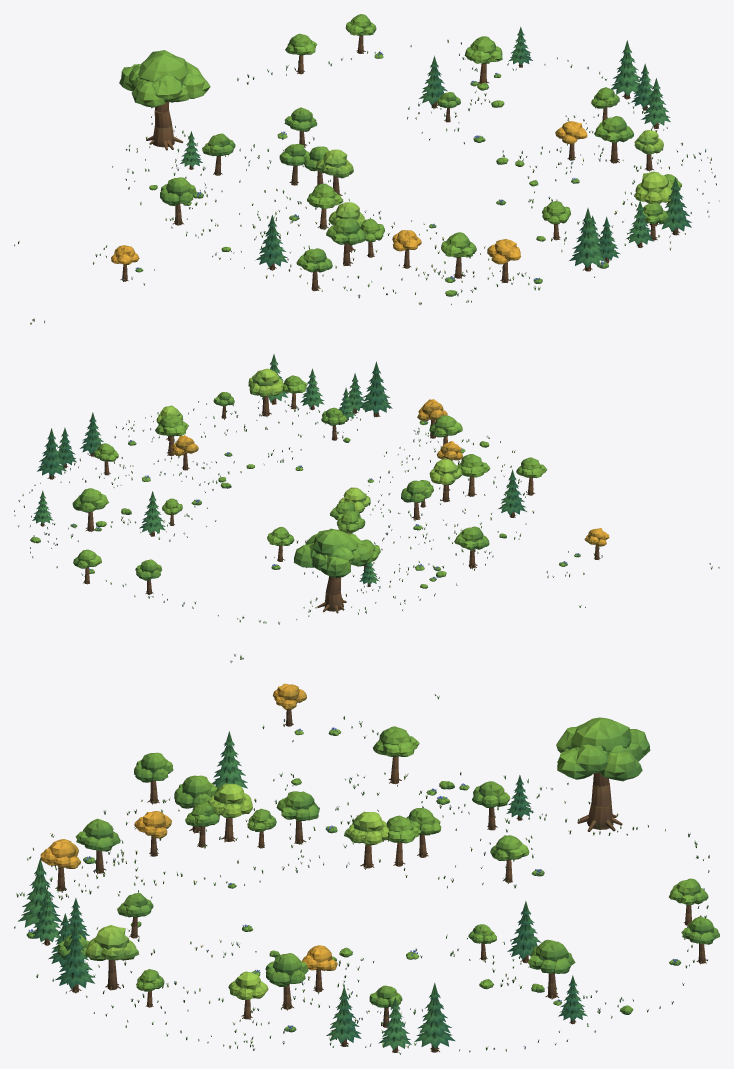
File: LOBBY_SN_09_VEGETATION_d9f901.fbx
3 renders of one model, top to bottom at view 1: azimuth 30°, elevation 25°; view 2: azimuth 150°, elevation 25°; view 3: azimuth 270°, elevation 25°, orthographic. The views are drawn at different scales.
Visible parts, largest first — view 1: WB_Veg_ancient__SNB_Veg_ancient, WB_Veg_pine1__SNB_Veg_pine1_g16_14, WB_Veg_oak1__SNB_Veg_oak1_g15_15, WB_Veg_pine2__SNB_Veg_pine2, WB_Veg_oak3__SNB_Veg_oak3_g16_15, WB_Veg_pine1__SNB_Veg_pine1_g17_16, WB_Veg_oak1__SNB_Veg_oak1_g16_15, WB_Veg_oakG__SNB_Veg_oakG_g15_15, WB_Veg_oak2__SNB_Veg_oak2_g15_16, WB_Veg_oak1__SNB_Veg_oak1_g16_17, WB_Veg_oak1__SNB_Veg_oak1_g15_16, WB_Veg_oak1__SNB_Veg_oak1_g14_16 (+9 smaller); view 2: WB_Veg_ancient__SNB_Veg_ancient, WB_Veg_oak1__SNB_Veg_oak1_g15_15, WB_Veg_pine1__SNB_Veg_pine1_g16_14, WB_Veg_pine2__SNB_Veg_pine2, WB_Veg_pine1__SNB_Veg_pine1_g17_16, WB_Veg_oak3__SNB_Veg_oak3_g16_15, WB_Veg_oak1__SNB_Veg_oak1_g16_15, WB_Veg_oak1__SNB_Veg_oak1_g16_17, WB_Veg_oakG__SNB_Veg_oakG_g15_15, WB_Veg_oak1__SNB_Veg_oak1_g15_16, WB_Veg_oak1__SNB_Veg_oak1_g16_16, WB_Veg_oak3__SNB_Veg_oak3_g15_15 (+7 smaller); view 3: WB_Veg_ancient__SNB_Veg_ancient, WB_Veg_pine1__SNB_Veg_pine1_g16_14, WB_Veg_oak1__SNB_Veg_oak1_g15_15, WB_Veg_pine2__SNB_Veg_pine2, WB_Veg_oak3__SNB_Veg_oak3_g16_15, WB_Veg_pine1__SNB_Veg_pine1_g17_16, WB_Veg_oakG__SNB_Veg_oakG_g15_15, WB_Veg_oak1__SNB_Veg_oak1_g15_16, WB_Veg_oak1__SNB_Veg_oak1_g16_17, WB_Veg_oak2__SNB_Veg_oak2_g15_16, WB_Veg_oak1__SNB_Veg_oak1_g16_15, WB_Veg_oak1__SNB_Veg_oak1_g16_16 (+9 smaller).
Boxes of the visible parts, bbox=[...] form: WB_Veg_ancient__SNB_Veg_ancient: bbox=[119, 50, 210, 150]; WB_Veg_pine1__SNB_Veg_pine1_g16_14: bbox=[255, 78, 691, 271]; WB_Veg_oak1__SNB_Veg_oak1_g15_15: bbox=[296, 183, 476, 291]; WB_Veg_pine2__SNB_Veg_pine2: bbox=[180, 26, 653, 247]; WB_Veg_oak3__SNB_Veg_oak3_g16_15: bbox=[634, 130, 672, 226]; WB_Veg_pine1__SNB_Veg_pine1_g17_16: bbox=[419, 40, 654, 126]; WB_Veg_oak1__SNB_Veg_oak1_g16_15: bbox=[594, 116, 668, 240]; WB_Veg_oakG__SNB_Veg_oakG_g15_15: bbox=[392, 230, 520, 282]; WB_Veg_oak2__SNB_Veg_oak2_g15_16: bbox=[202, 133, 309, 185]; WB_Veg_oak1__SNB_Veg_oak1_g16_17: bbox=[285, 14, 376, 74]; WB_Veg_oak1__SNB_Veg_oak1_g15_16: bbox=[284, 107, 328, 187]; WB_Veg_oak1__SNB_Veg_oak1_g14_16: bbox=[160, 177, 196, 225]; WB_Veg_ancient__SNB_Veg_ancient: bbox=[294, 528, 374, 613]; WB_Veg_oak1__SNB_Veg_oak1_g15_15: bbox=[401, 415, 547, 519]; WB_Veg_pine1__SNB_Veg_pine1_g16_14: bbox=[83, 354, 525, 517]; WB_Veg_pine2__SNB_Veg_pine2: bbox=[32, 368, 379, 586]; WB_Veg_pine1__SNB_Veg_pine1_g17_16: bbox=[37, 412, 165, 536]; WB_Veg_oak3__SNB_Veg_oak3_g16_15: bbox=[156, 368, 283, 440]; WB_Veg_oak1__SNB_Veg_oak1_g16_15: bbox=[155, 375, 307, 455]; WB_Veg_oak1__SNB_Veg_oak1_g16_17: bbox=[73, 549, 161, 594]; WB_Veg_oakG__SNB_Veg_oakG_g15_15: bbox=[417, 399, 462, 460]; WB_Veg_oak1__SNB_Veg_oak1_g15_16: bbox=[267, 502, 360, 561]; WB_Veg_oak1__SNB_Veg_oak1_g16_16: bbox=[72, 488, 108, 531]; WB_Veg_oak3__SNB_Veg_oak3_g15_15: bbox=[429, 458, 462, 502]; WB_Veg_ancient__SNB_Veg_ancient: bbox=[556, 717, 650, 831]; WB_Veg_pine1__SNB_Veg_pine1_g16_14: bbox=[18, 731, 346, 1046]; WB_Veg_oak1__SNB_Veg_oak1_g15_15: bbox=[75, 752, 319, 874]; WB_Veg_pine2__SNB_Veg_pine2: bbox=[48, 775, 587, 1052]; WB_Veg_oak3__SNB_Veg_oak3_g16_15: bbox=[85, 925, 268, 1019]; WB_Veg_pine1__SNB_Veg_pine1_g17_16: bbox=[344, 901, 541, 1052]; WB_Veg_oakG__SNB_Veg_oakG_g15_15: bbox=[40, 811, 171, 891]; WB_Veg_oak1__SNB_Veg_oak1_g15_16: bbox=[386, 815, 529, 882]; WB_Veg_oak1__SNB_Veg_oak1_g16_17: bbox=[669, 878, 719, 964]; WB_Veg_oak2__SNB_Veg_oak2_g15_16: bbox=[406, 781, 510, 857]; WB_Veg_oak1__SNB_Veg_oak1_g16_15: bbox=[57, 934, 308, 1010]; WB_Veg_oak1__SNB_Veg_oak1_g16_16: bbox=[527, 939, 575, 999].
Size of the model in its own units: 419 by 51.29 by 311.
10 materials, 10 textured.
